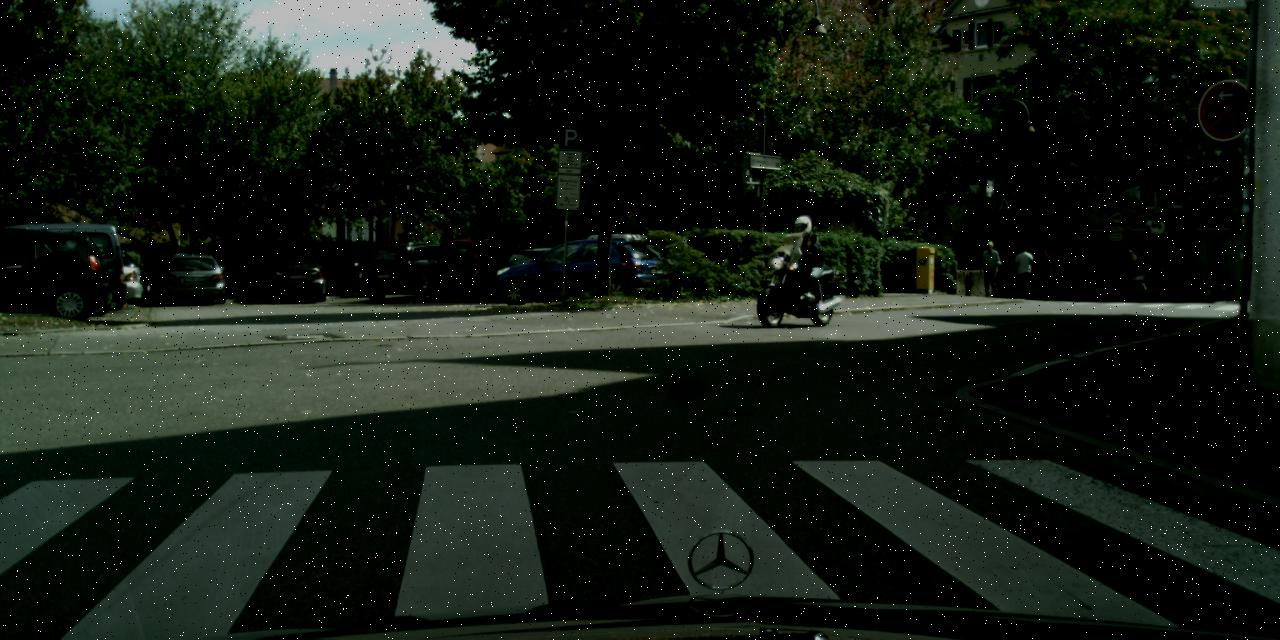ped: (783, 214, 821, 310), (979, 240, 1001, 296), (1012, 245, 1033, 299), (1032, 248, 1052, 298), (1121, 248, 1140, 295)
